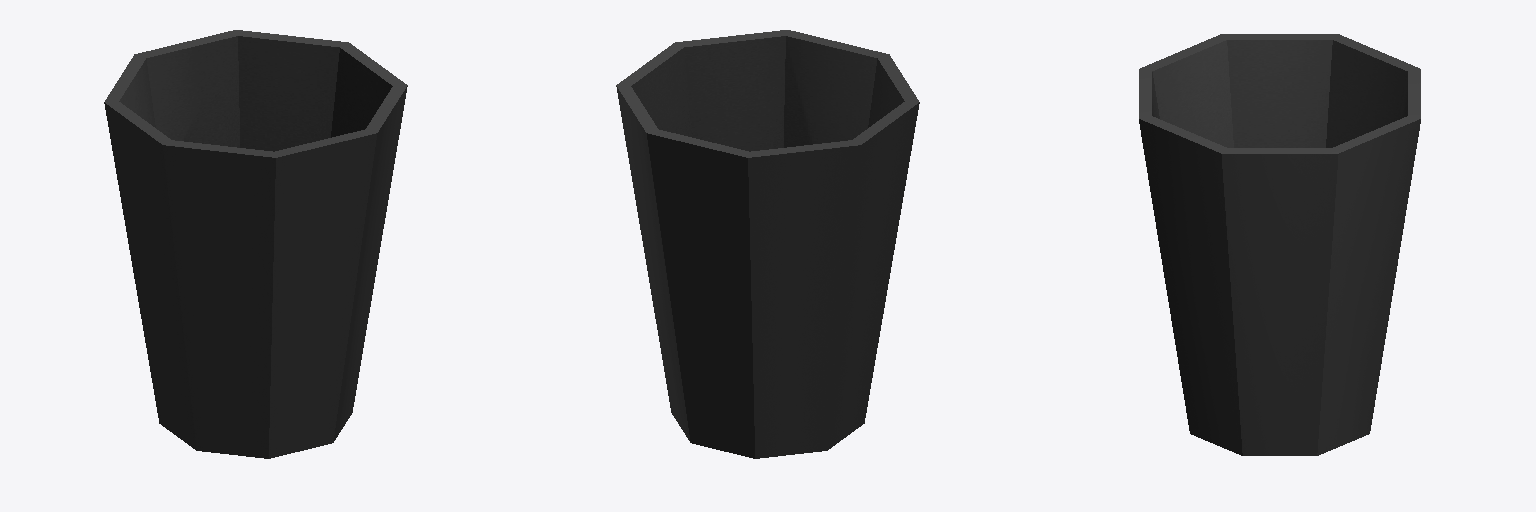
3 views of the same model, side by side, from view 1: azimuth 30°, elevation 25°; view 2: azimuth 150°, elevation 25°; view 3: azimuth 270°, elevation 25° (orthographic).
Parts seen in each view (by area): view 1: Cup_Tube.006; view 2: Cup_Tube.006; view 3: Cup_Tube.006.
Part boxes in pixels (x1,y1,x2,y2): Cup_Tube.006: (104,30,407,458); Cup_Tube.006: (616,30,919,458); Cup_Tube.006: (1139,34,1420,455).
Size of the model in its own units: 0.7115 by 0.9 by 0.7115.
1 materials, 1 textured.